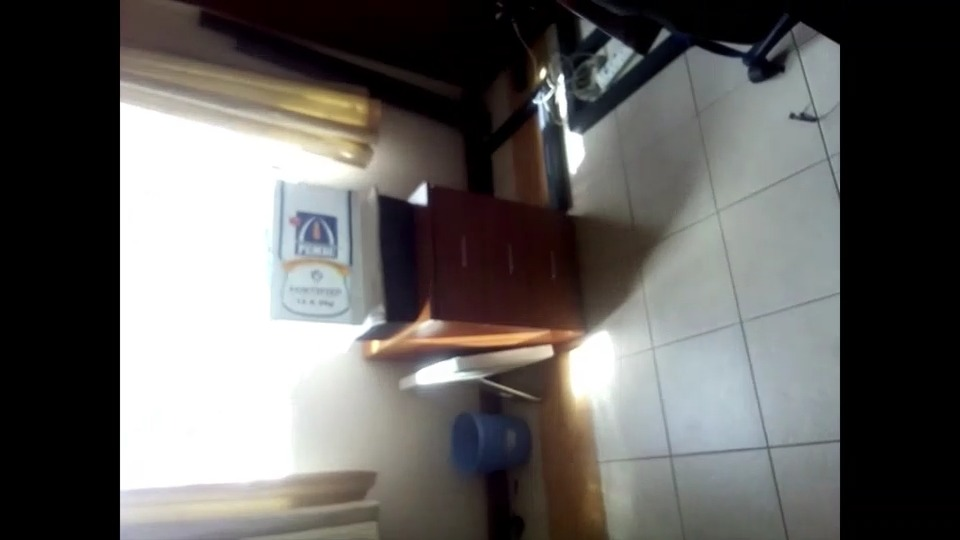wheat_flour_blue_label: (269, 173, 375, 312)
